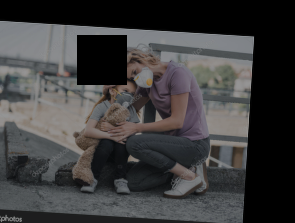with_mask: (128, 64, 155, 87), (113, 86, 136, 108)
